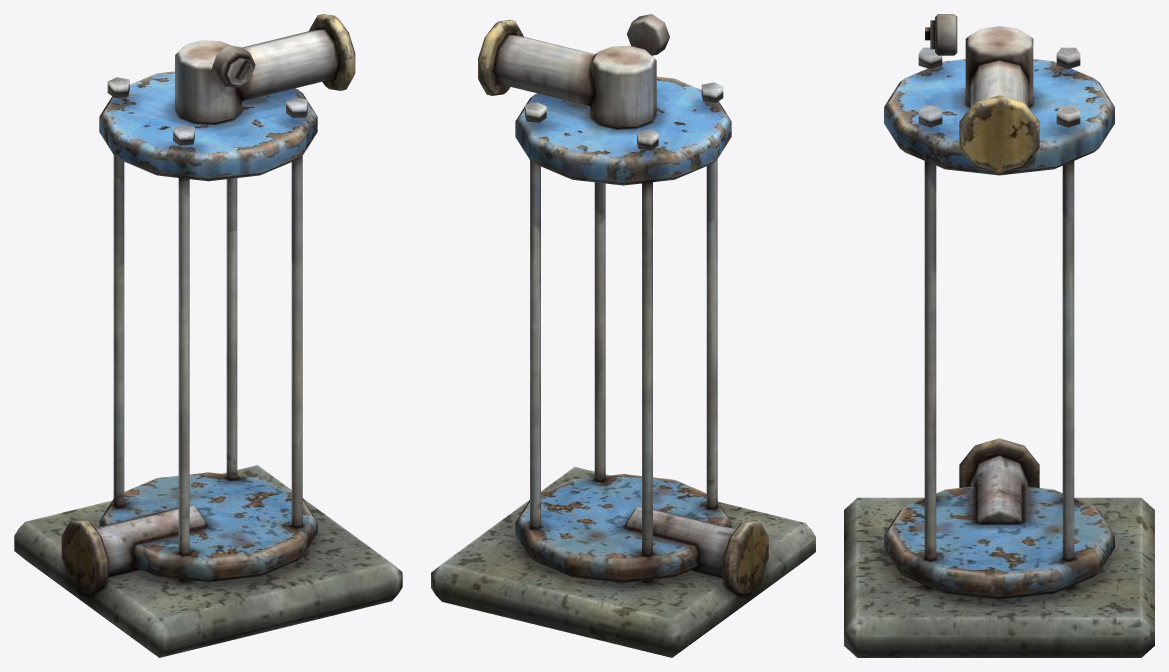
The model's file is filtro_corpo.glb.
3 views of the same model, side by side, from view 1: azimuth 30°, elevation 25°; view 2: azimuth 150°, elevation 25°; view 3: azimuth 270°, elevation 25° (orthographic). The views are drawn at different scales.
Visible parts, largest first — view 1: filtro_corpo; view 2: filtro_corpo; view 3: filtro_corpo.
Part boxes in pixels (x1,y1,x2,y2): filtro_corpo: (14,14,402,657); filtro_corpo: (431,14,815,657); filtro_corpo: (844,14,1154,657).
Size of the model in its own units: 0.715 by 1.45 by 0.7.
Materials: 1 (1 with a texture image).
